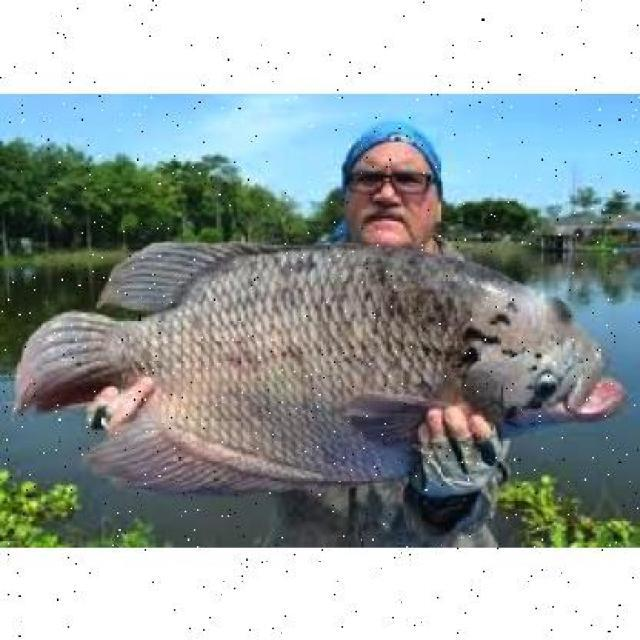gurame: (22, 237, 628, 492)
